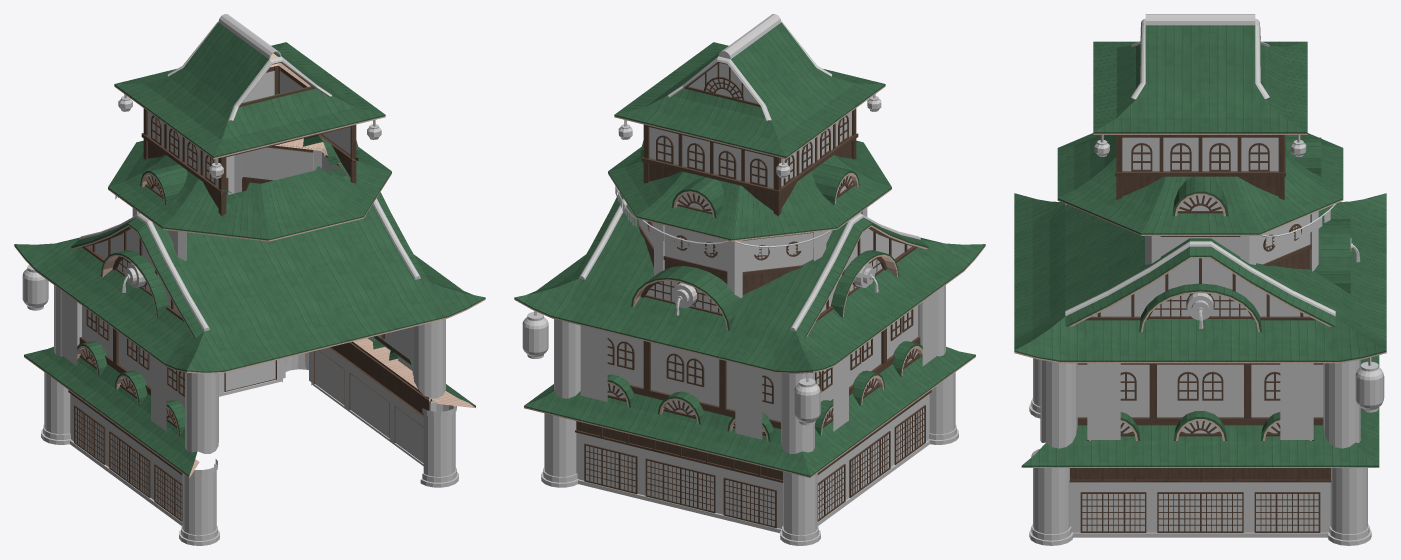
File: REDUCTION_SM_ENV_KNVLLG_CommonBuilding_J_2.mo.fbx
The picture shows the model from 3 angles, left to right: view 1: azimuth 30°, elevation 25°; view 2: azimuth 150°, elevation 25°; view 3: azimuth 270°, elevation 25°; orthographic projection. The views are drawn at different scales.
Parts seen in each view (by area): view 1: REDUCTION_SM_ENV_KNVLLG_CommonBuilding_J_2.mo; view 2: REDUCTION_SM_ENV_KNVLLG_CommonBuilding_J_2.mo; view 3: REDUCTION_SM_ENV_KNVLLG_CommonBuilding_J_2.mo.
Part boxes in pixels (<box>): REDUCTION_SM_ENV_KNVLLG_CommonBuilding_J_2.mo: <box>14,14,485,545</box>; REDUCTION_SM_ENV_KNVLLG_CommonBuilding_J_2.mo: <box>514,14,985,545</box>; REDUCTION_SM_ENV_KNVLLG_CommonBuilding_J_2.mo: <box>1014,14,1386,545</box>.
Size of the model in its own units: 25 by 34 by 25.
